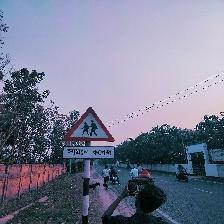College-in-front: (51, 92, 126, 177)
